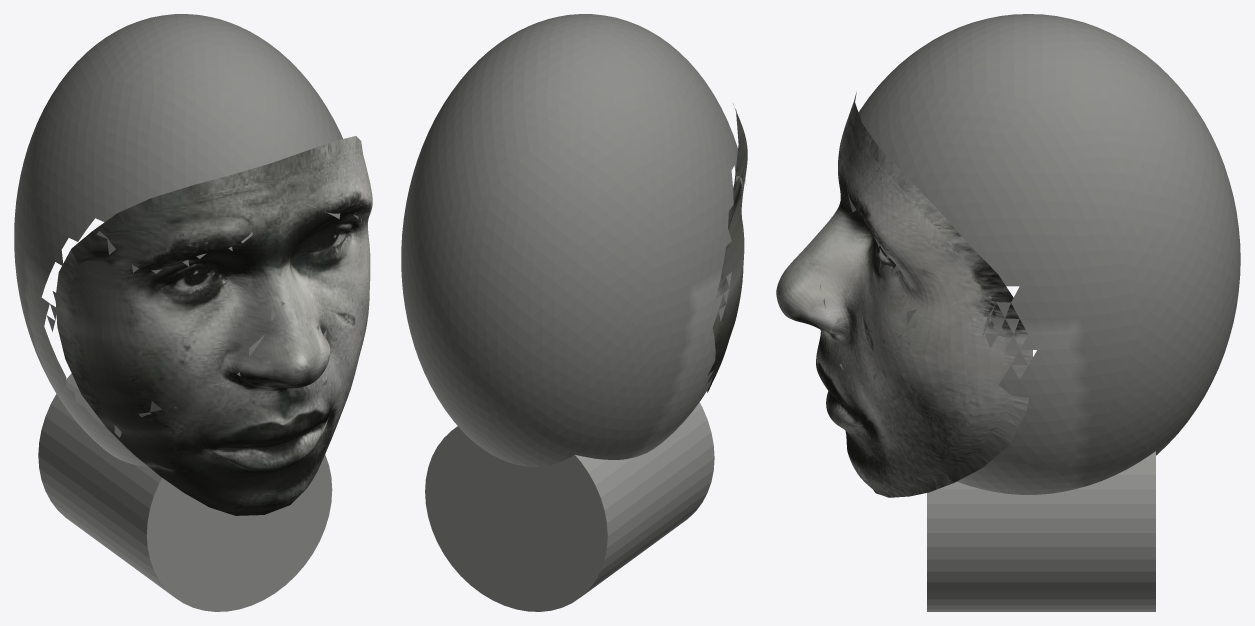
Rendered from fanon.glb.
3 renders of one model, left to right at view 1: azimuth 30°, elevation 25°; view 2: azimuth 150°, elevation 25°; view 3: azimuth 270°, elevation 25°, orthographic. The views are drawn at different scales.
Visible parts, largest first — view 1: face, head, neck; view 2: head, neck, face; view 3: head, face, neck.
Part boxes in pixels (left/top/right/bottom): face: left=55, top=136, right=372, bottom=515; head: left=14, top=14, right=366, bottom=466; neck: left=38, top=373, right=332, bottom=611; head: left=401, top=14, right=746, bottom=466; neck: left=425, top=402, right=714, bottom=611; face: left=706, top=104, right=747, bottom=392; head: left=820, top=14, right=1240, bottom=494; face: left=776, top=92, right=1032, bottom=497; neck: left=927, top=451, right=1155, bottom=611.
Bounding box in the file's own units: 0.1411 × 0.2518 × 0.184.
Materials: 1 (1 with a texture image).
